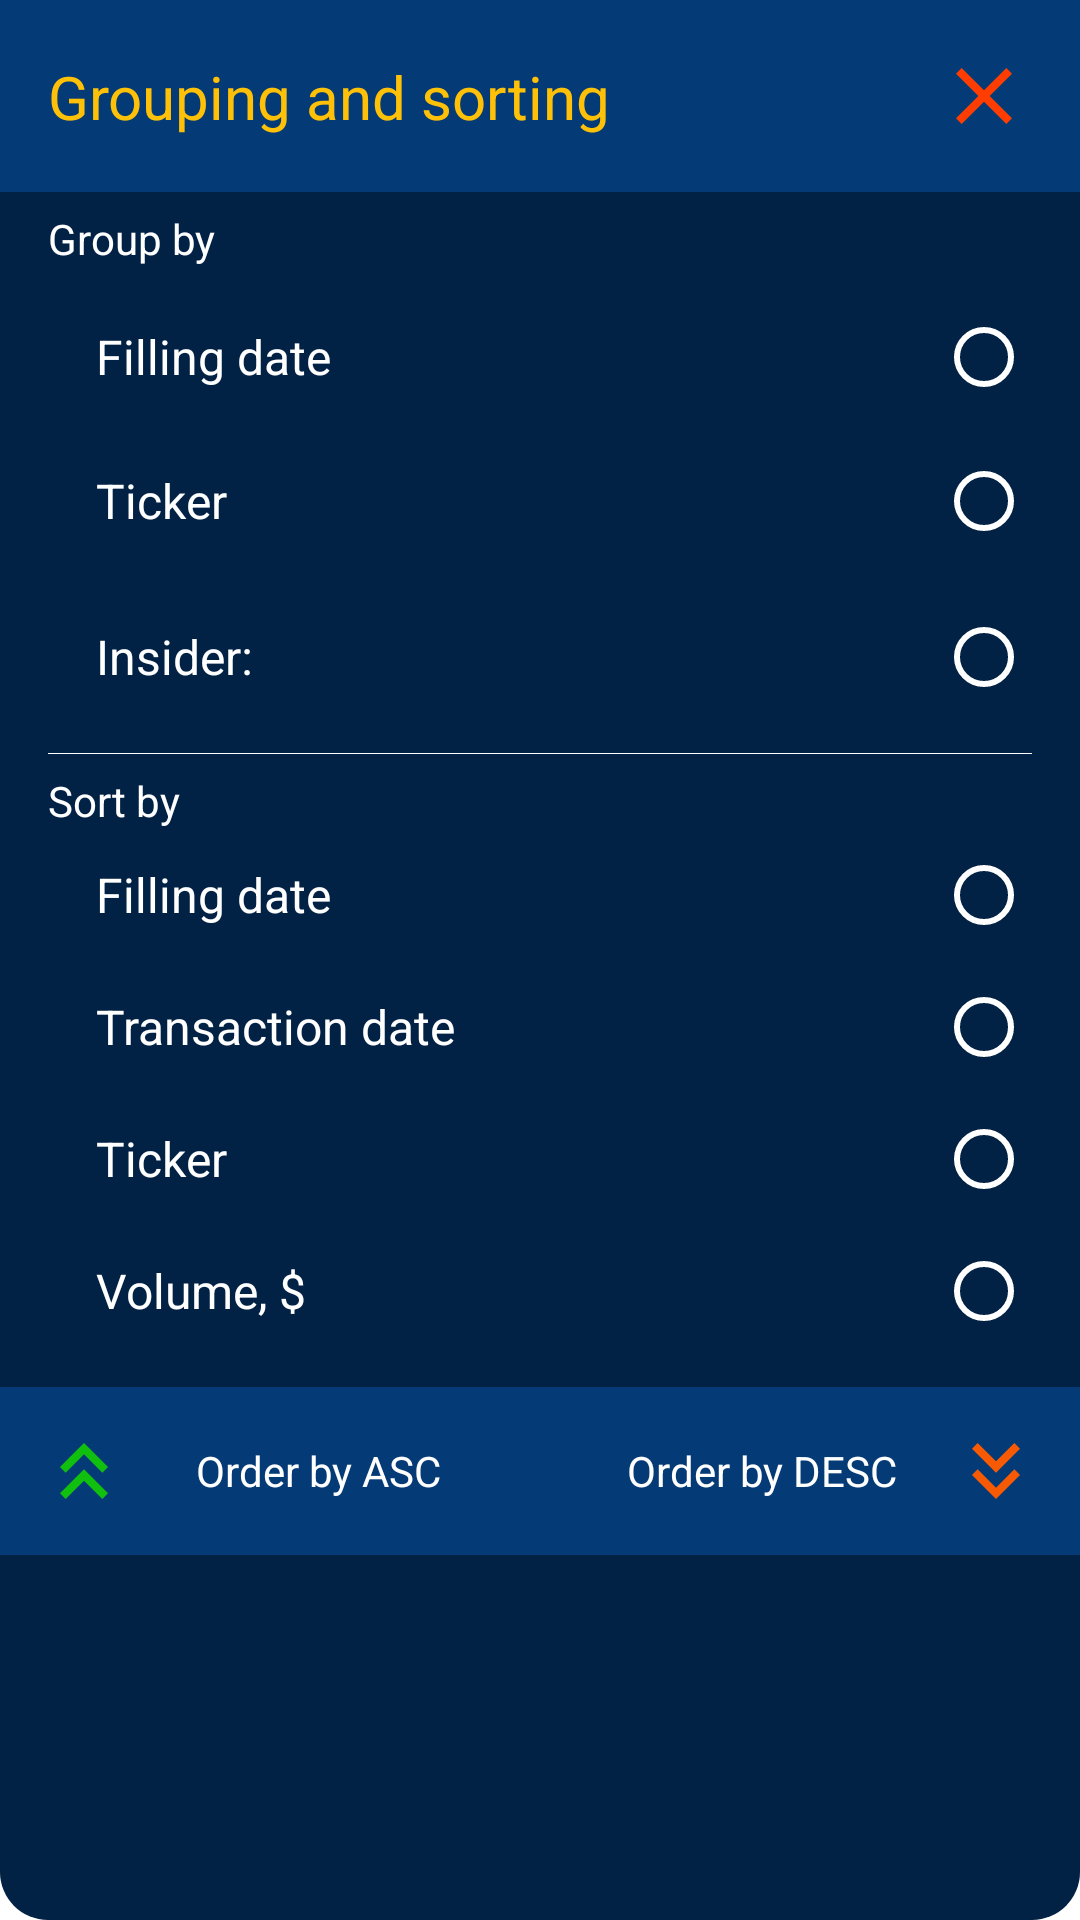

Icon click points for this 1080*1920 phone screenshot, format point (x, y):
Close: point (984, 96)
